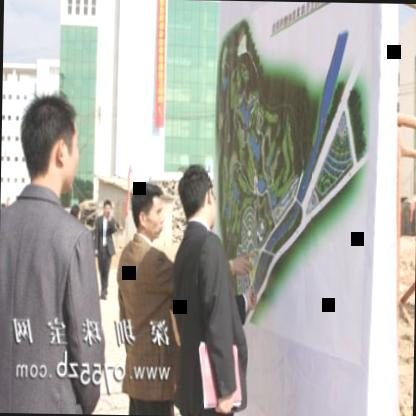head: (11, 92, 86, 200), (173, 161, 218, 234), (127, 176, 164, 244), (101, 196, 112, 216)
